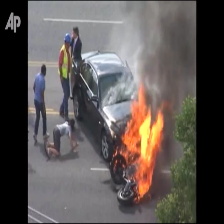fire: (125, 112, 157, 190)
smoke: (145, 7, 190, 96)
